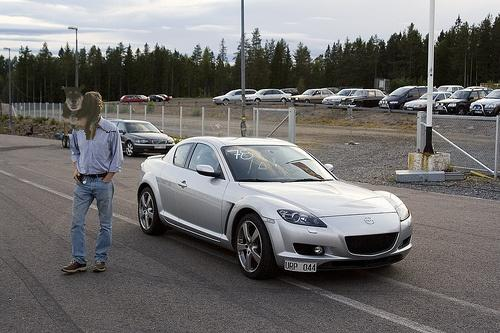tampered: (62, 85, 116, 140)
